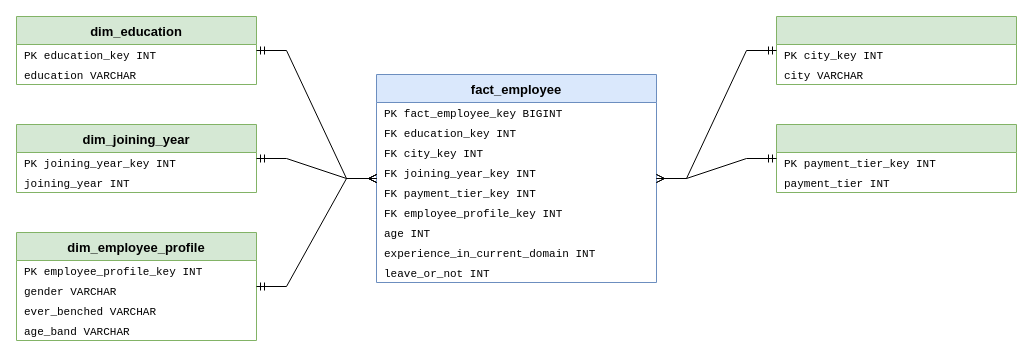
This 1033x357 diagram has some shape labels left out. Each missing label, with the box of its shape:
dim_city: (776, 16, 1016, 84)
dim_payment_tier: (776, 124, 1016, 192)
